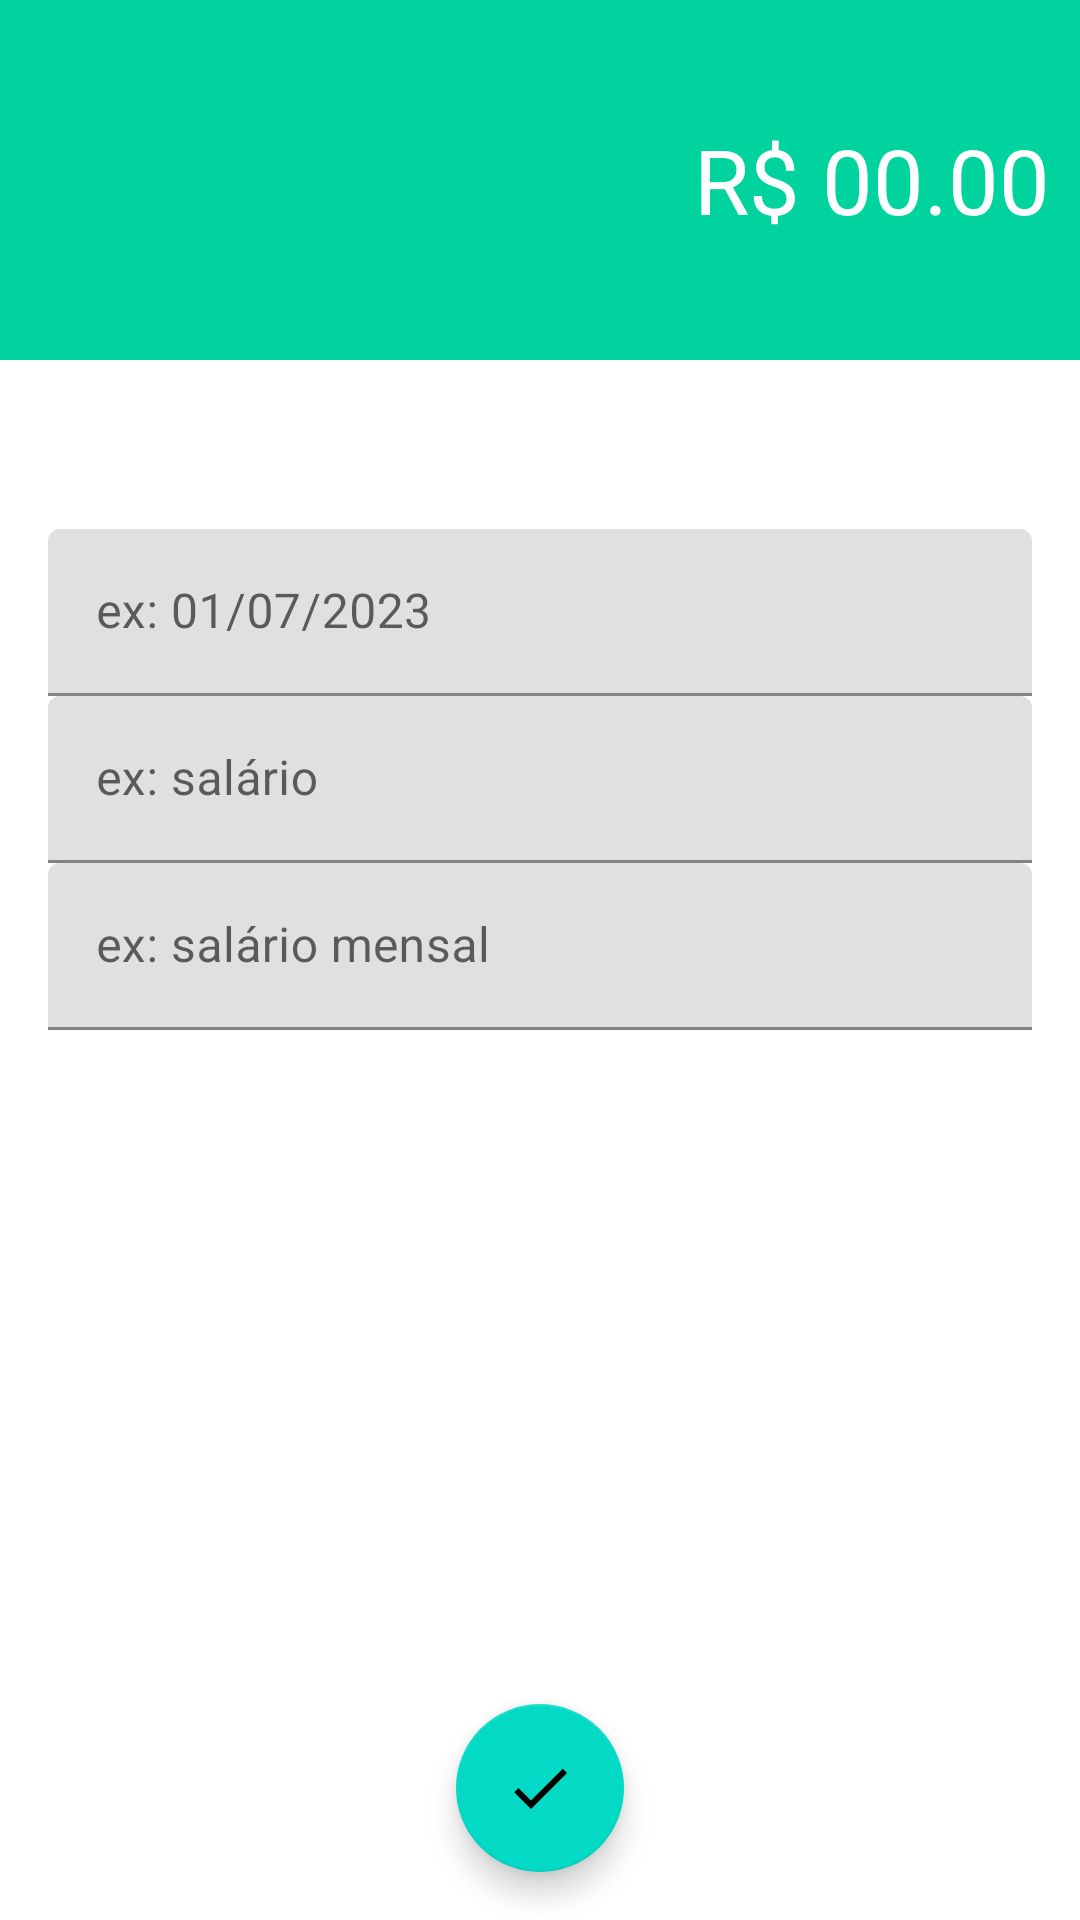

Where icons sit on this 1080px×1920px app screen, as (x1, y1, x2, y2):
confirmar branco: (456, 1704, 624, 1872)
